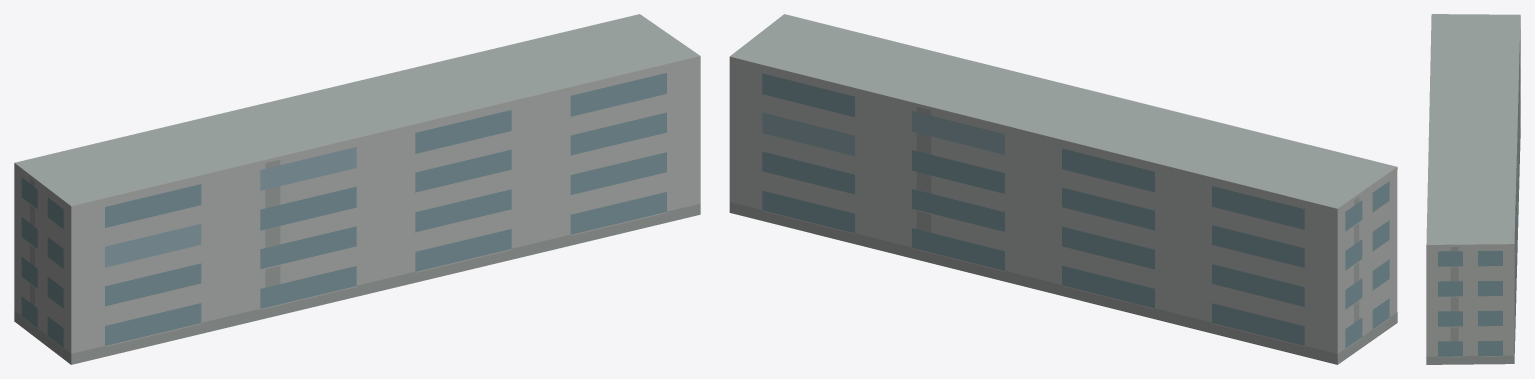
File: residential-17daaac7-4981-4ca3-9cb5-4ef5f734bbc1.glb
3 renders of one model, left to right at view 1: azimuth 30°, elevation 25°; view 2: azimuth 150°, elevation 25°; view 3: azimuth 270°, elevation 25°, orthographic. The views are drawn at different scales.
Visible parts, largest first — view 1: residential-17daaac7-4981-4ca3-9cb5-4ef5f734bbc1.tmp; view 2: residential-17daaac7-4981-4ca3-9cb5-4ef5f734bbc1.tmp; view 3: residential-17daaac7-4981-4ca3-9cb5-4ef5f734bbc1.tmp.
Part boxes in pixels (x1=…): residential-17daaac7-4981-4ca3-9cb5-4ef5f734bbc1.tmp: x1=14, y1=14, x2=700, y2=364; residential-17daaac7-4981-4ca3-9cb5-4ef5f734bbc1.tmp: x1=729, y1=14, x2=1397, y2=364; residential-17daaac7-4981-4ca3-9cb5-4ef5f734bbc1.tmp: x1=1426, y1=14, x2=1520, y2=364.
Size of the model in its own units: 50.4 by 12.2 by 8.68.
